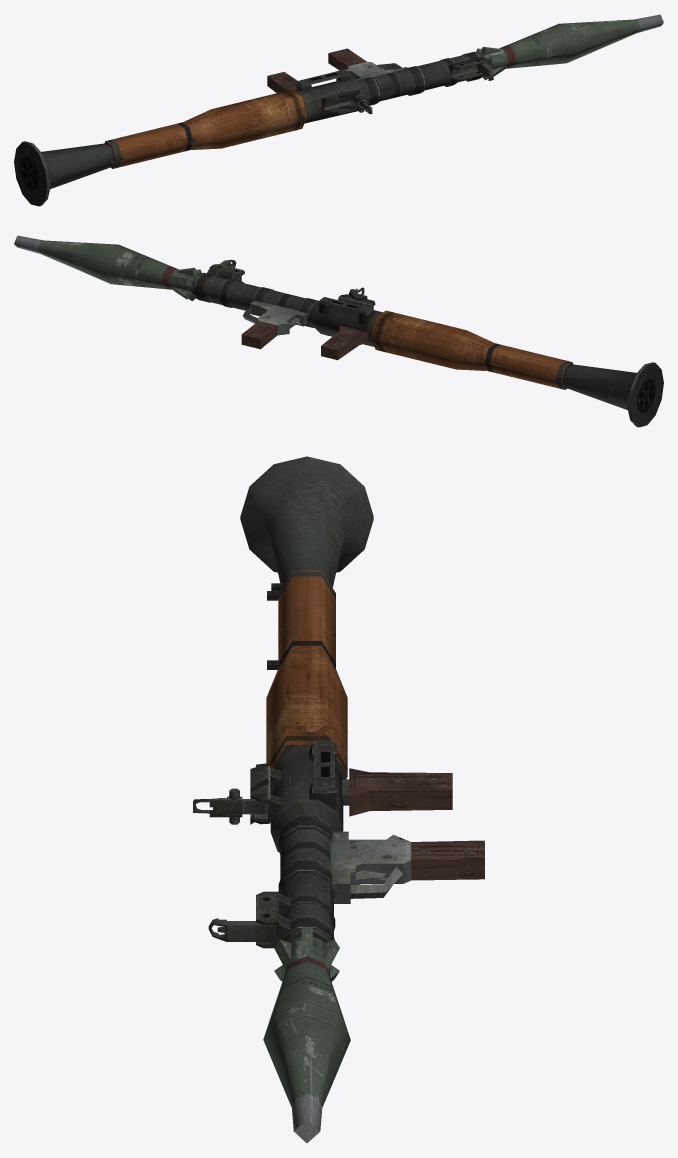
Rendered from weapon_rpg7_LOD0.obj.
The picture shows the model from 3 angles, top to bottom: view 1: azimuth 30°, elevation 25°; view 2: azimuth 150°, elevation 25°; view 3: azimuth 270°, elevation 25°; orthographic projection. The views are drawn at different scales.
Visible parts, largest first — view 1: mtl_weapon_rpg7; view 2: mtl_weapon_rpg7; view 3: mtl_weapon_rpg7.
Part boxes in pixels (box(x1,y1,x2,y2)): mtl_weapon_rpg7: box(14, 14, 663, 206); mtl_weapon_rpg7: box(14, 235, 663, 427); mtl_weapon_rpg7: box(193, 456, 484, 1142).
Size of the model in its own units: 131 by 11.98 by 26.27.
